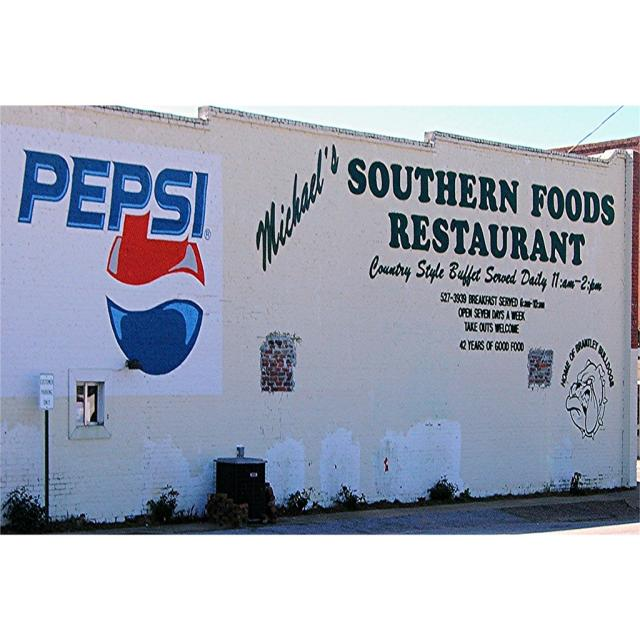pepsi: (95, 207, 214, 377)
